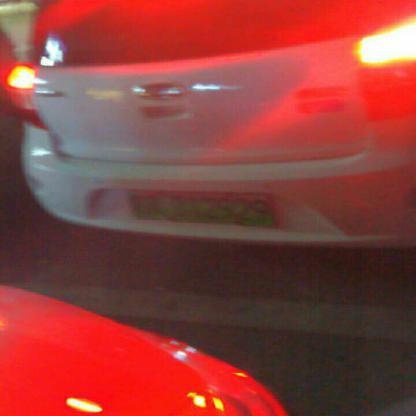lp: (126, 189, 274, 225)
